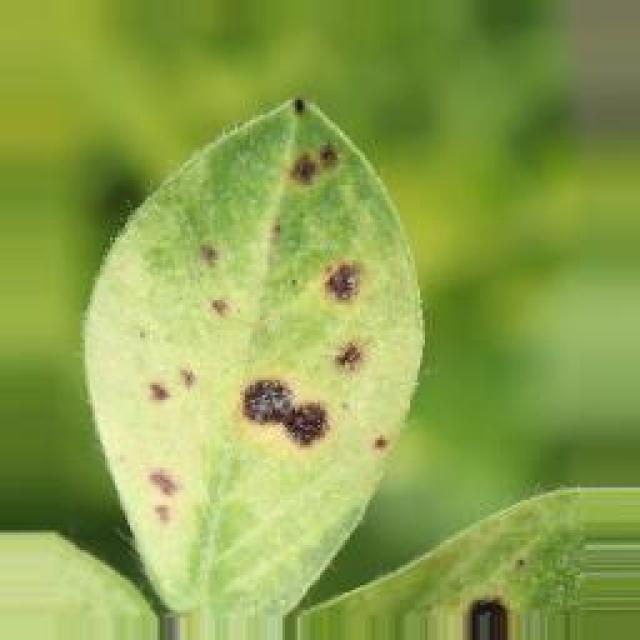Yellowish: (122, 56, 414, 565)
